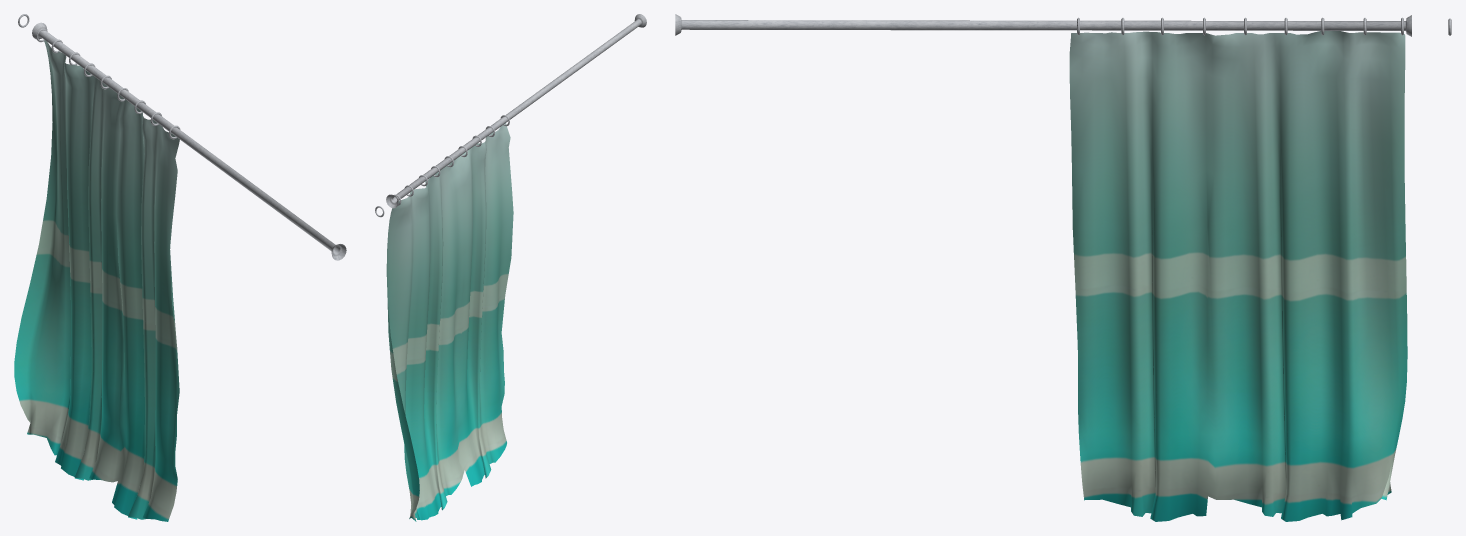
File: SM_BathCurtains_A.fbx
The picture shows the model from 3 angles, left to right: view 1: azimuth 30°, elevation 25°; view 2: azimuth 150°, elevation 25°; view 3: azimuth 270°, elevation 25°; orthographic projection. The views are drawn at different scales.
Visible parts, largest first — view 1: SM_BathCurtains_A; view 2: SM_BathCurtains_A; view 3: SM_BathCurtains_A.
Part boxes in pixels (x1=…): SM_BathCurtains_A: x1=14, y1=14, x2=346, y2=521; SM_BathCurtains_A: x1=375, y1=14, x2=646, y2=521; SM_BathCurtains_A: x1=675, y1=14, x2=1451, y2=521.
Bounding box in the file's own units: 18.71 × 254 × 184.
2 materials, 2 textured.
